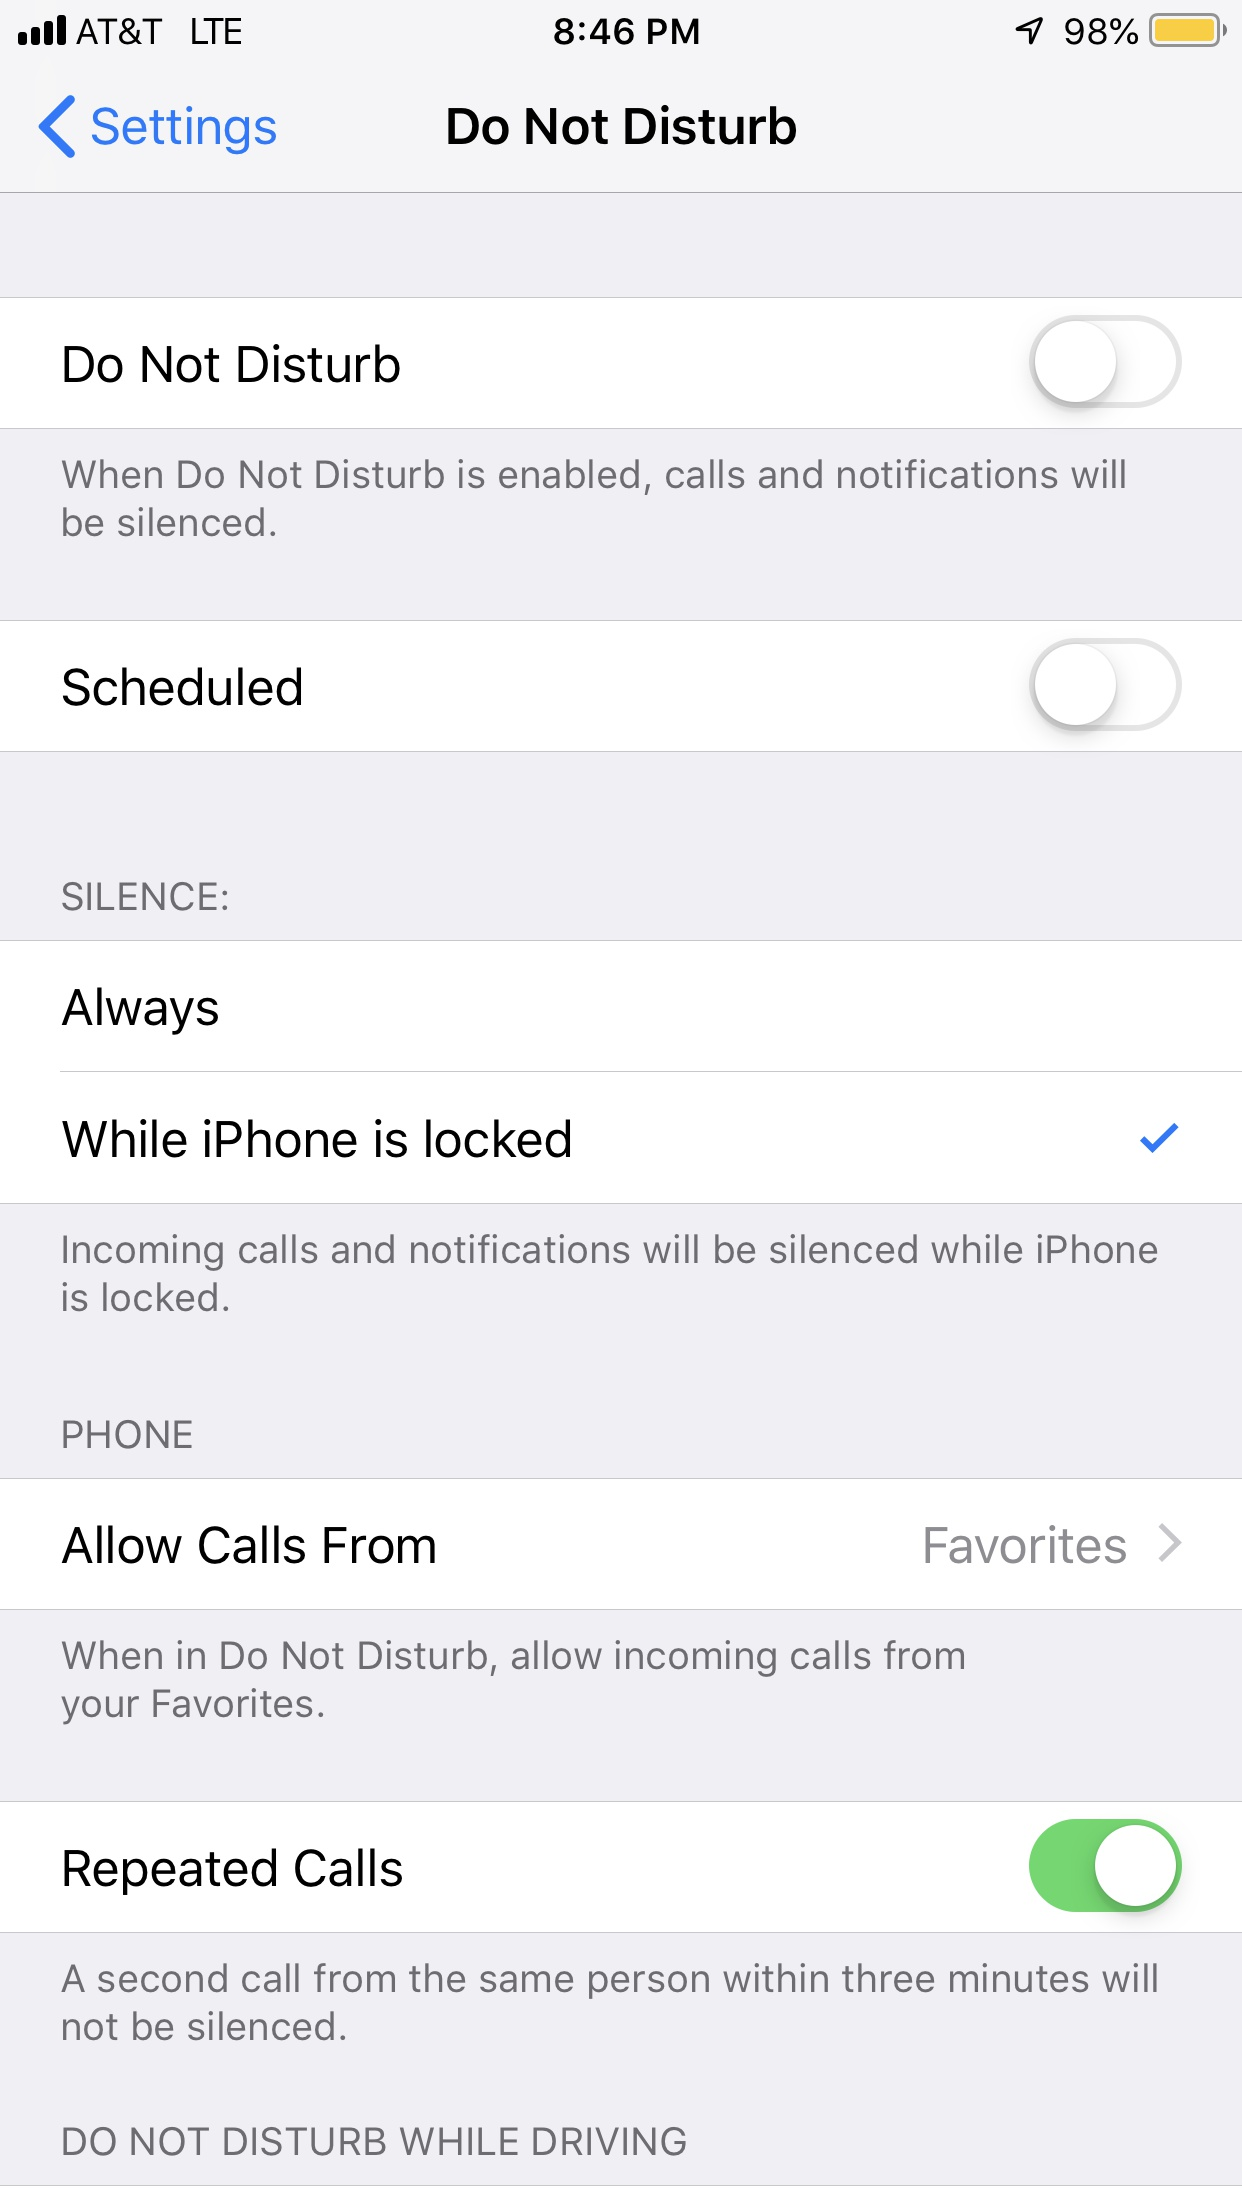Icon: (39, 96, 77, 161), (1140, 1122, 1180, 1154), (1157, 1523, 1183, 1563)
Switch: (1028, 315, 1183, 409), (1028, 638, 1183, 732), (1028, 1818, 1183, 1912)
Text: (61, 1961, 1159, 2043), (62, 1233, 1159, 1313), (61, 458, 1127, 538), (61, 1639, 964, 1726), (62, 1118, 572, 1159), (64, 2126, 687, 2156), (64, 1847, 403, 1896), (61, 1524, 437, 1565), (447, 106, 798, 147), (64, 343, 400, 385), (62, 667, 303, 708), (93, 106, 278, 156), (924, 1524, 1127, 1565), (61, 987, 220, 1037), (62, 881, 229, 913), (64, 1418, 194, 1450)
UpperTaskBar: (2, 2, 1242, 49)
